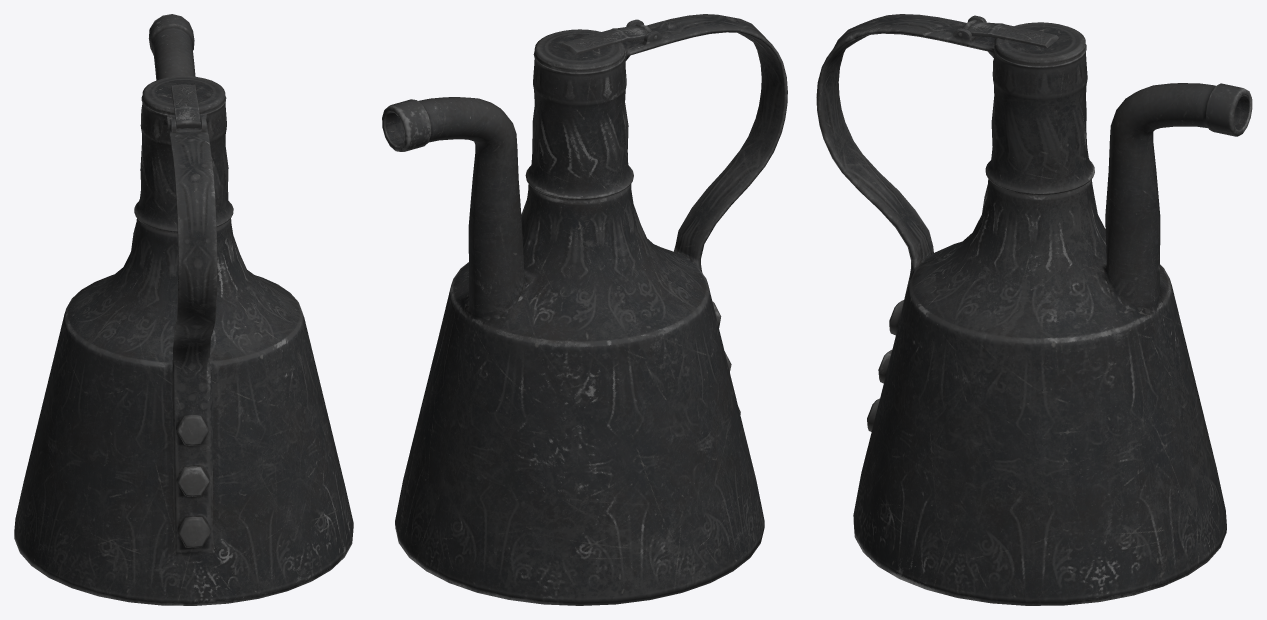
Rendered from Kettle.fbx.
3 renders of one model, left to right at view 1: azimuth 30°, elevation 25°; view 2: azimuth 150°, elevation 25°; view 3: azimuth 270°, elevation 25°, orthographic. The views are drawn at different scales.
Parts seen in each view (by area): view 1: Kettle_low; view 2: Kettle_low; view 3: Kettle_low.
Part boxes in pixels (x1=…): Kettle_low: x1=14, y1=14, x2=353, y2=605; Kettle_low: x1=382, y1=14, x2=787, y2=605; Kettle_low: x1=816, y1=14, x2=1252, y2=605.
Bounding box in the file's own units: 177 × 258 × 207.
